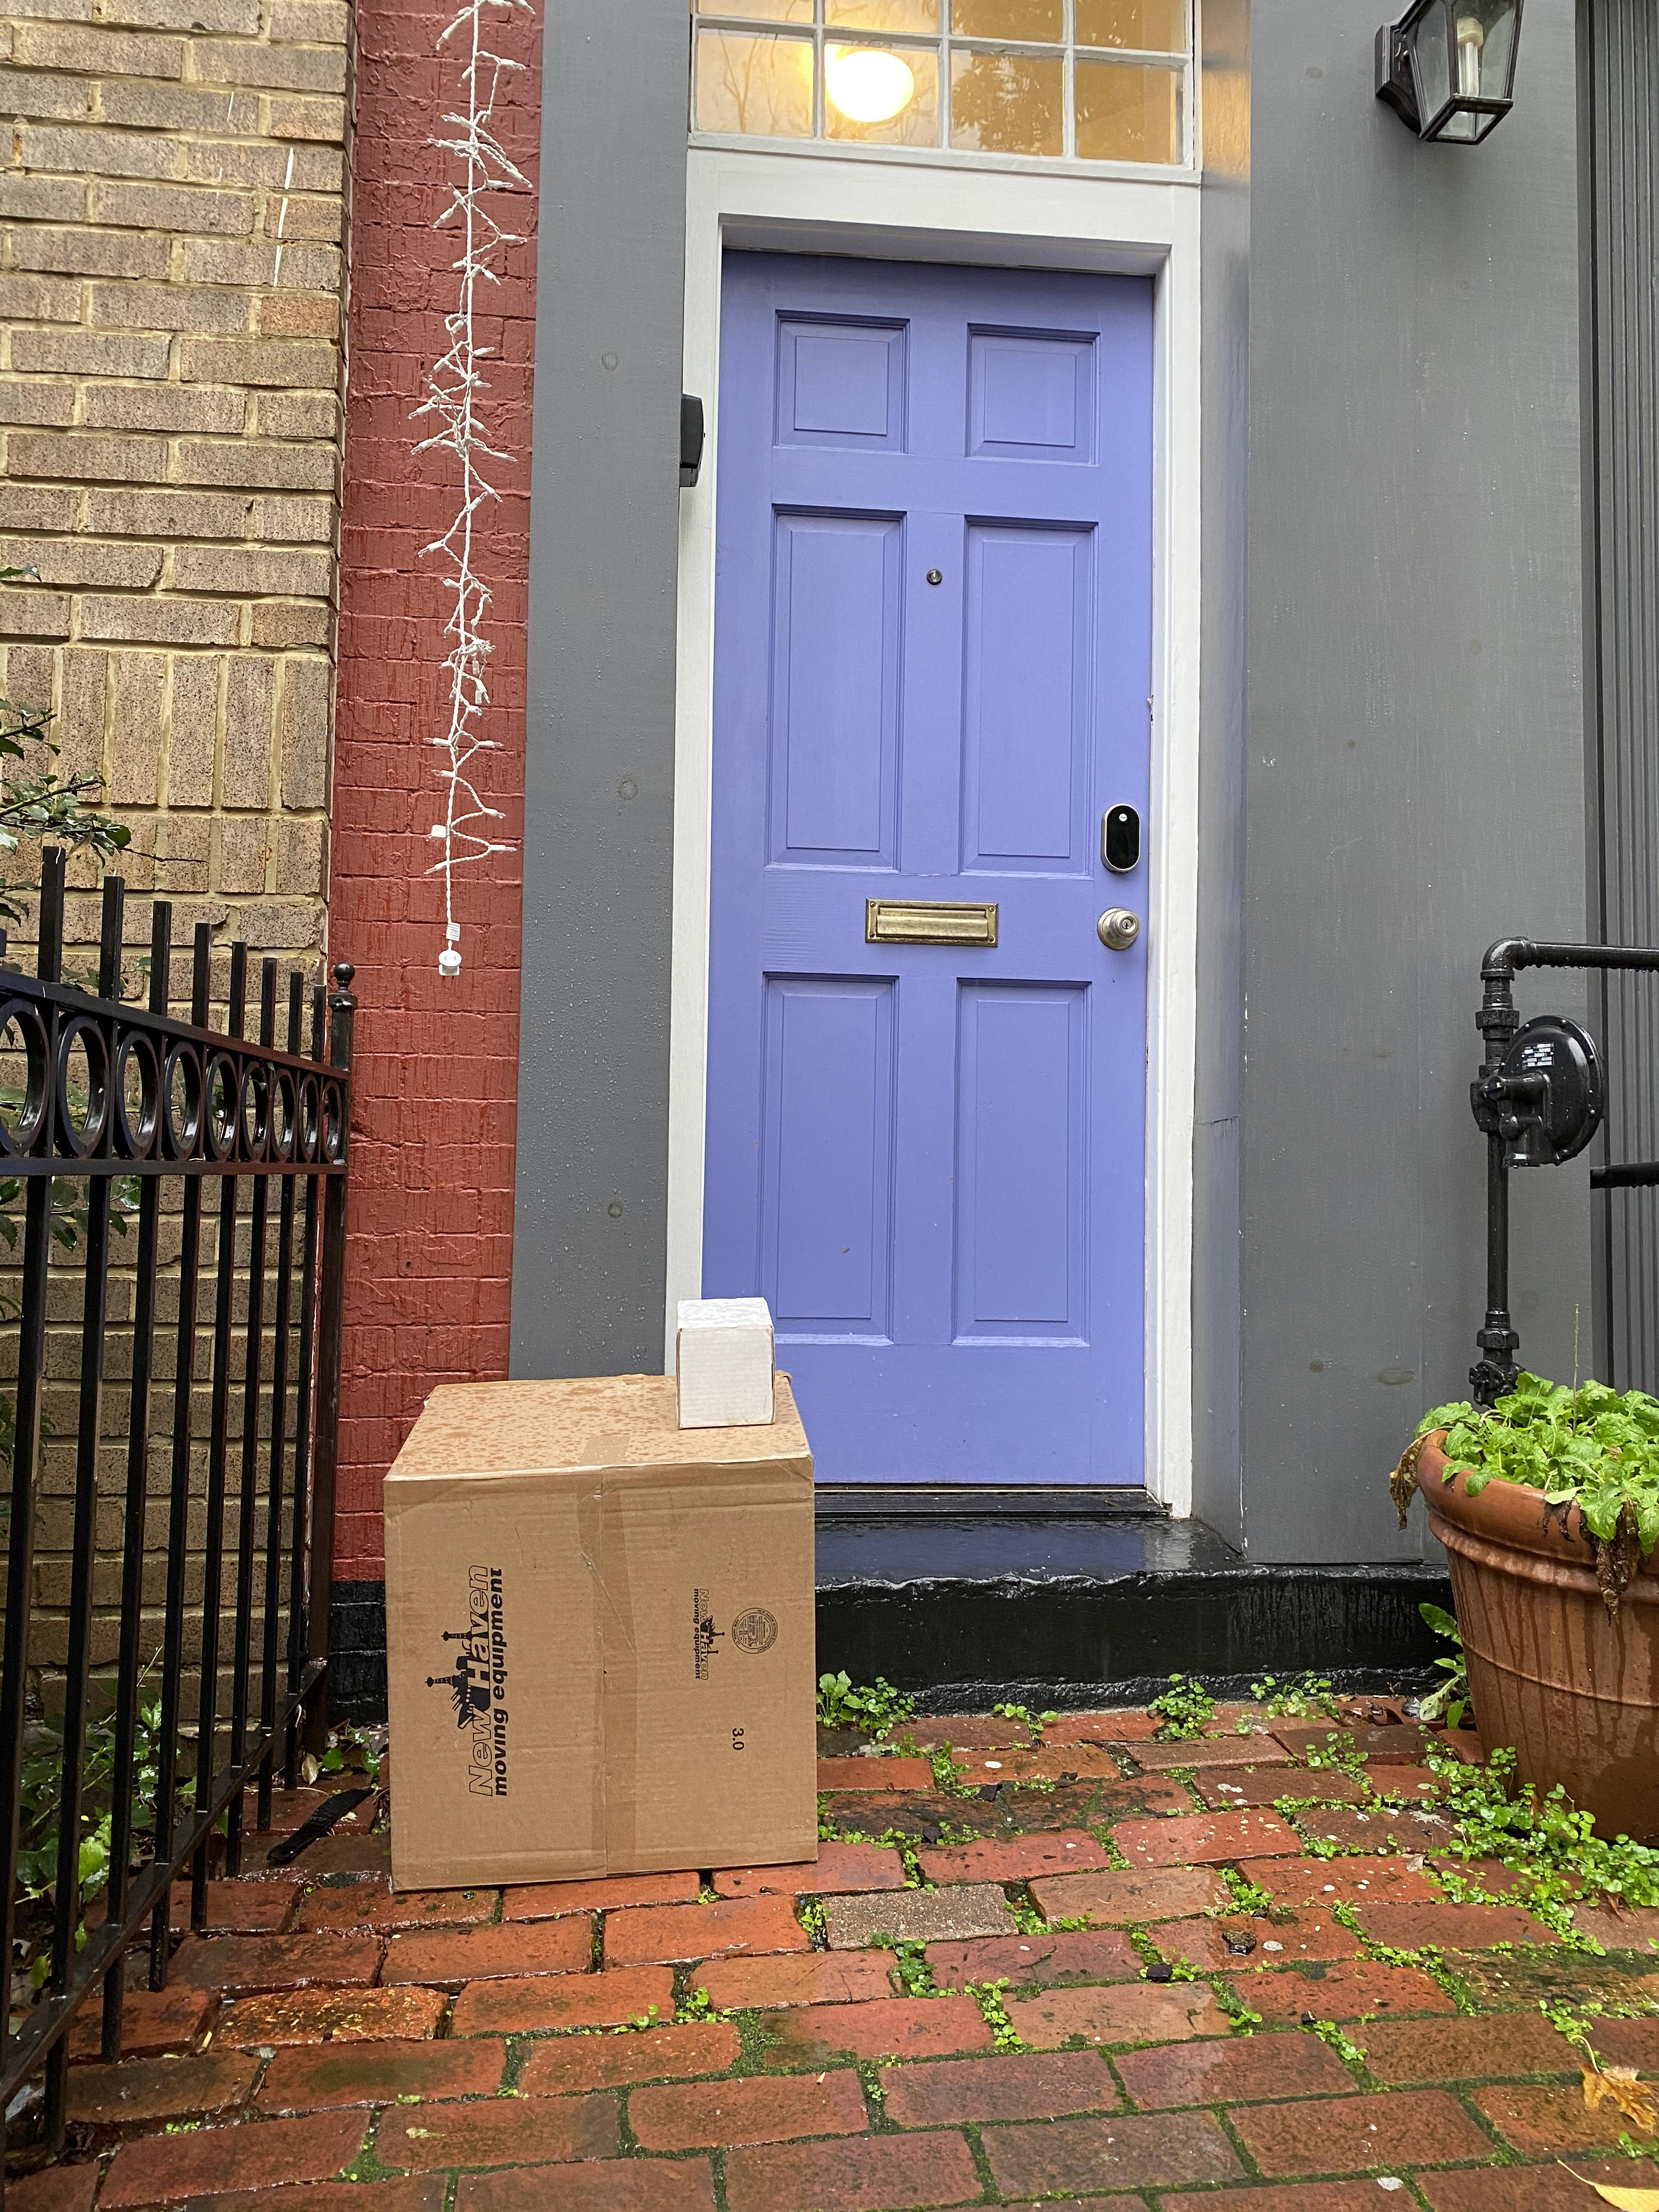package: (376, 1369, 838, 1907), (666, 1284, 782, 1439)
